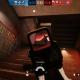Character: (42, 35, 48, 45)
Head: (44, 35, 46, 38)
